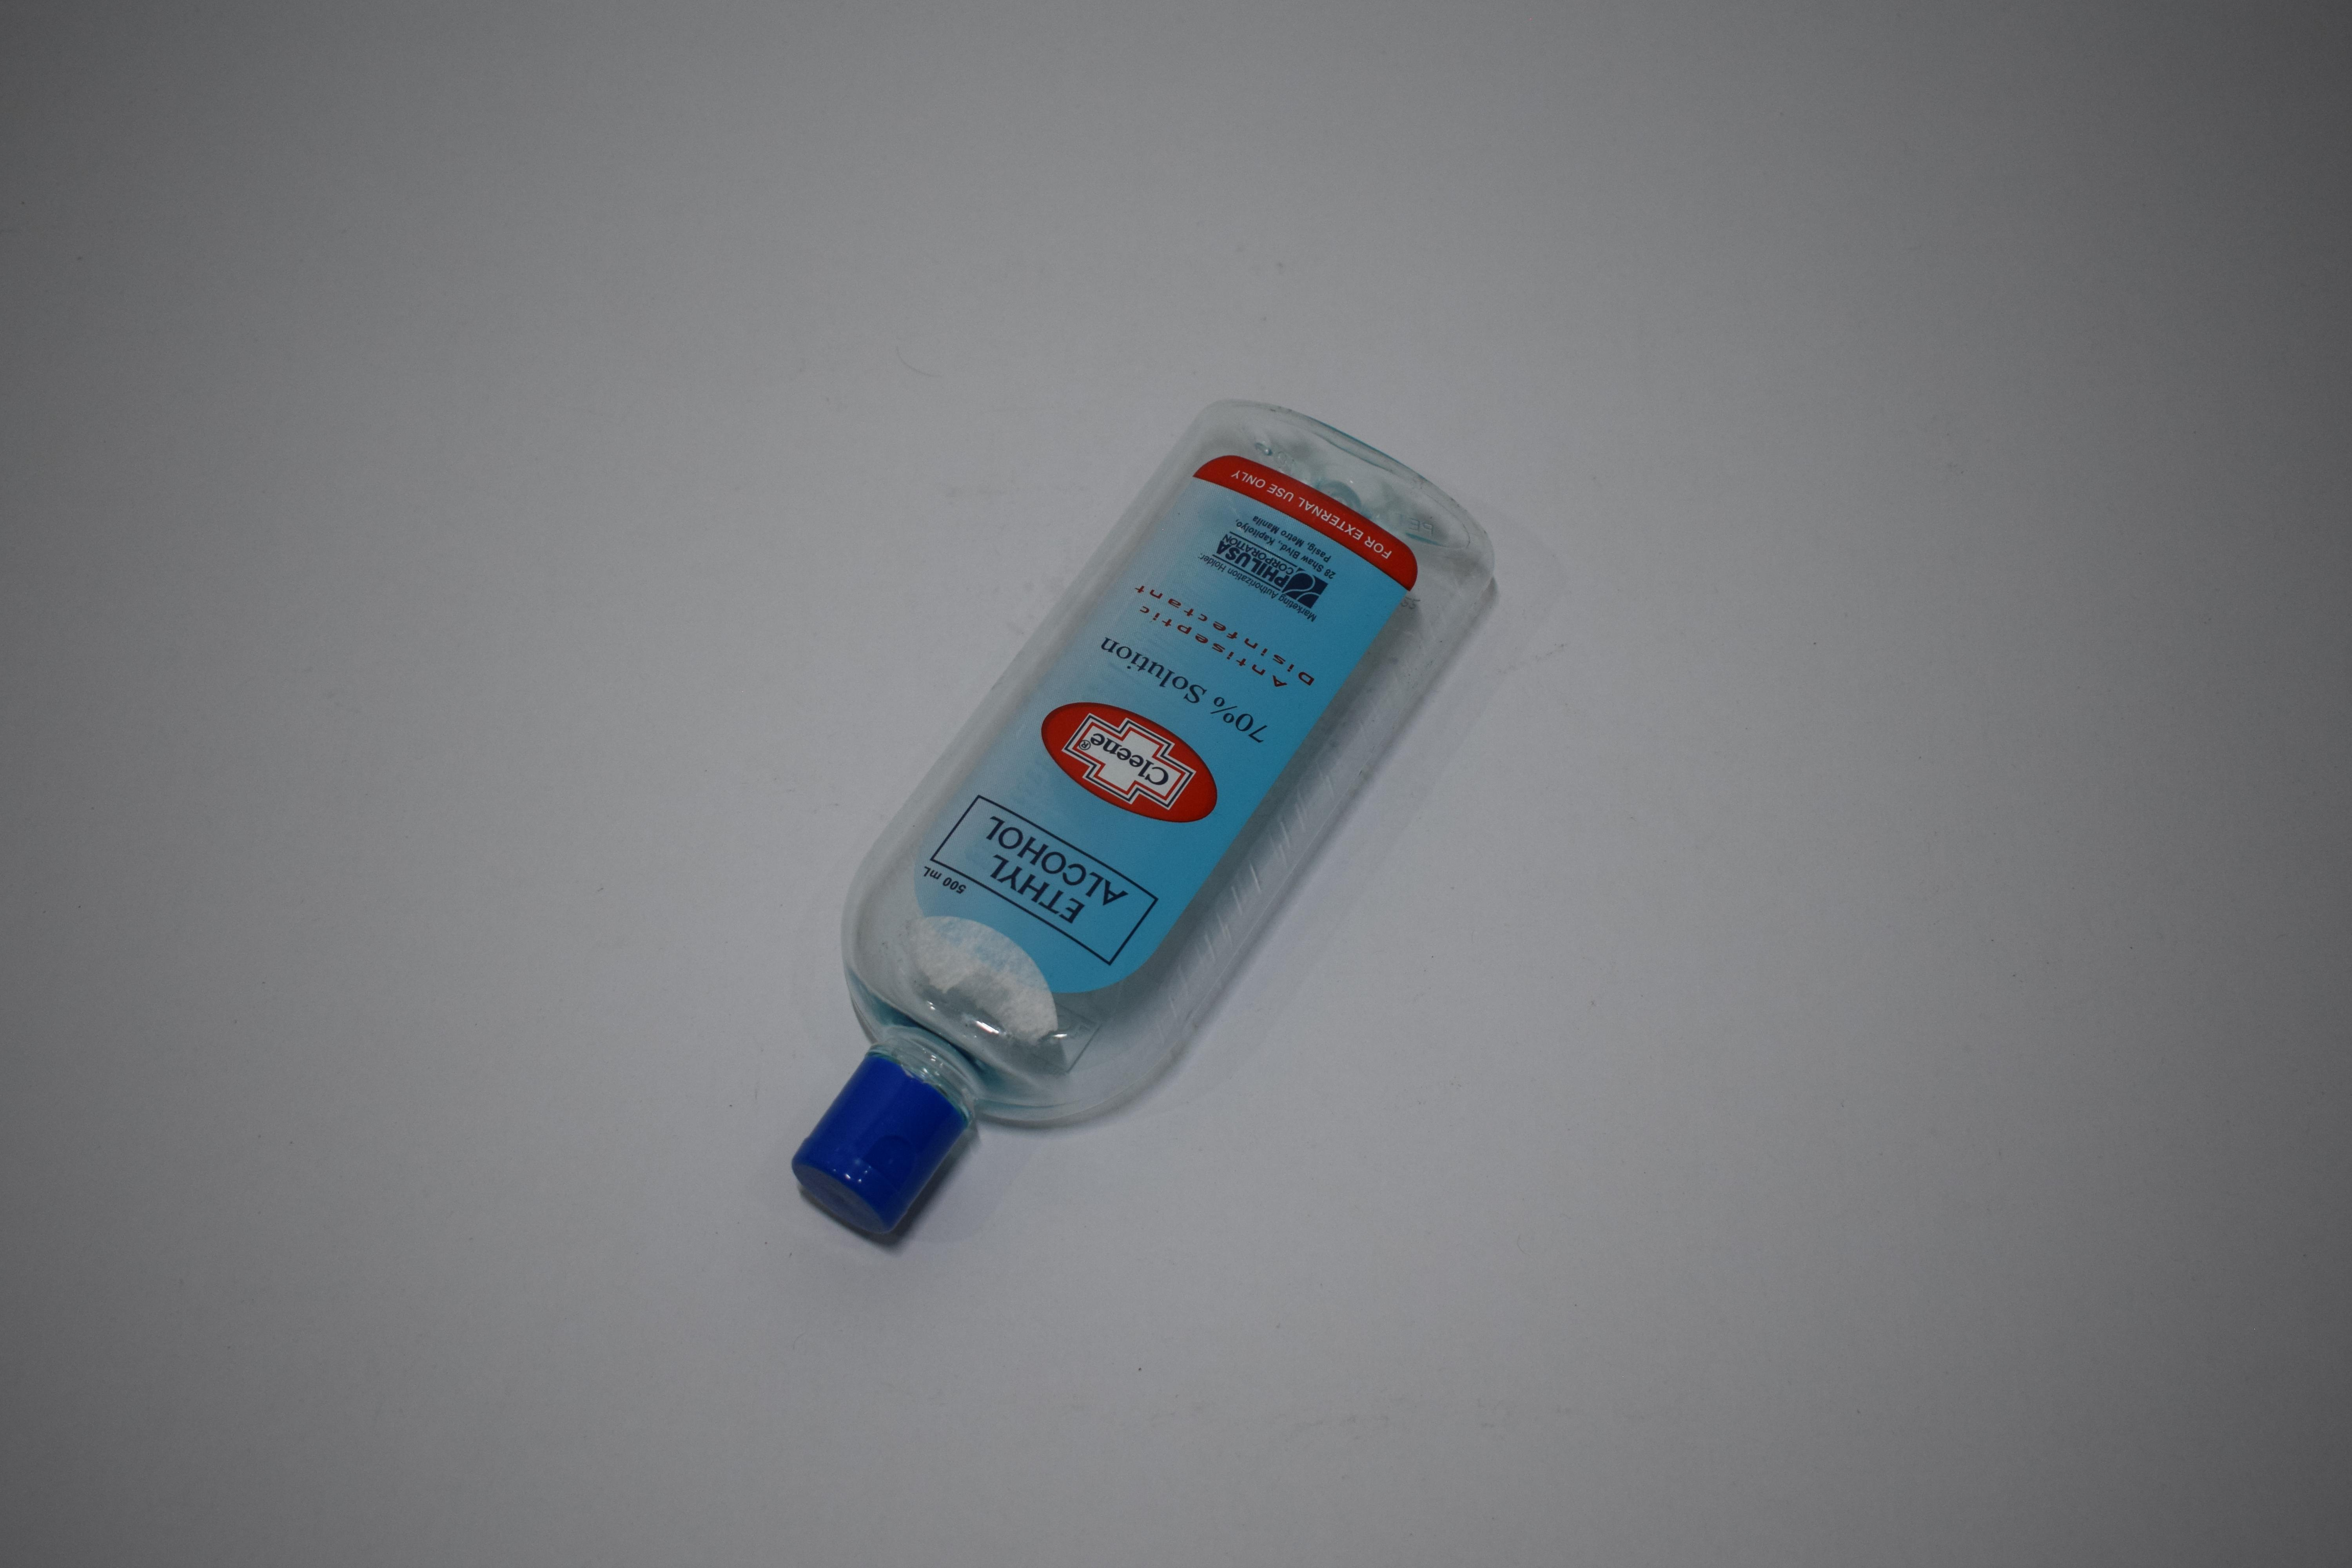bottle: (772, 0, 1486, 73)
